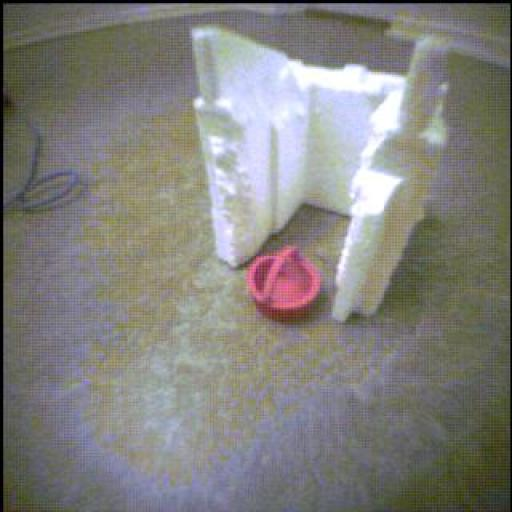Bucket: (248, 247, 323, 321)
